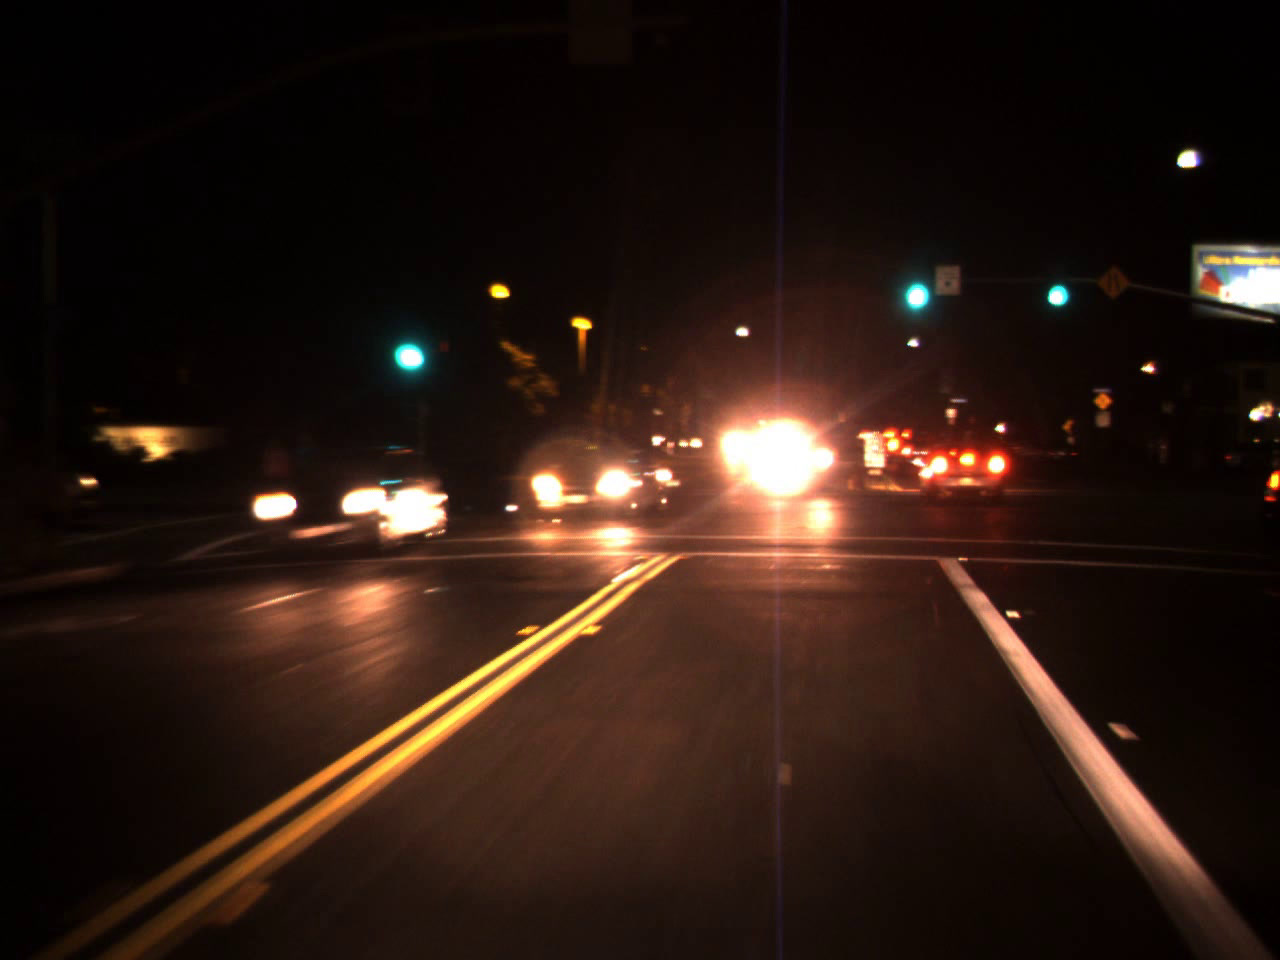go: (382, 305, 432, 383), (895, 246, 934, 321), (1039, 259, 1073, 313)
